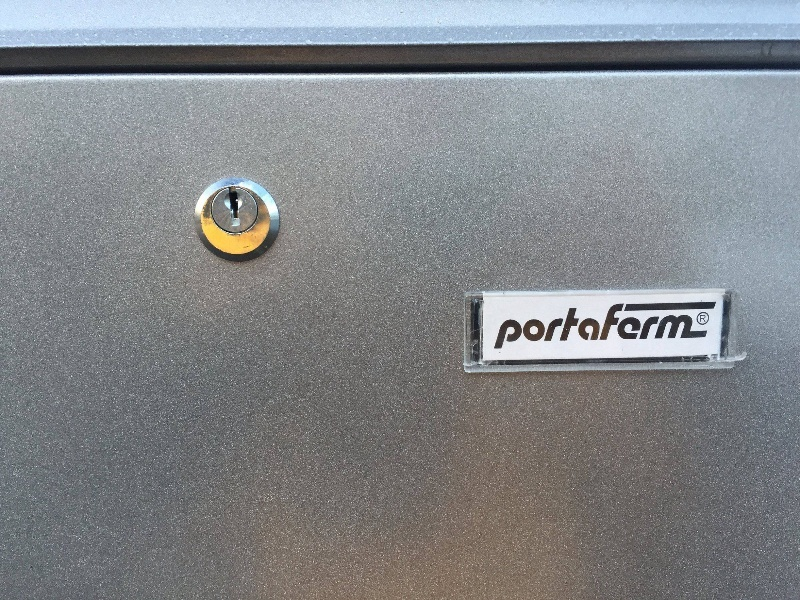text: (513, 302, 528, 350), (529, 302, 544, 350), (545, 302, 560, 350), (561, 302, 576, 350), (577, 302, 592, 350), (593, 302, 608, 350), (609, 302, 624, 350), (625, 302, 640, 350), (641, 302, 656, 350), (657, 302, 672, 350), (673, 302, 688, 350), (689, 302, 704, 350), (705, 302, 716, 350), (508, 302, 512, 350), (700, 315, 704, 323), (705, 315, 706, 323)
